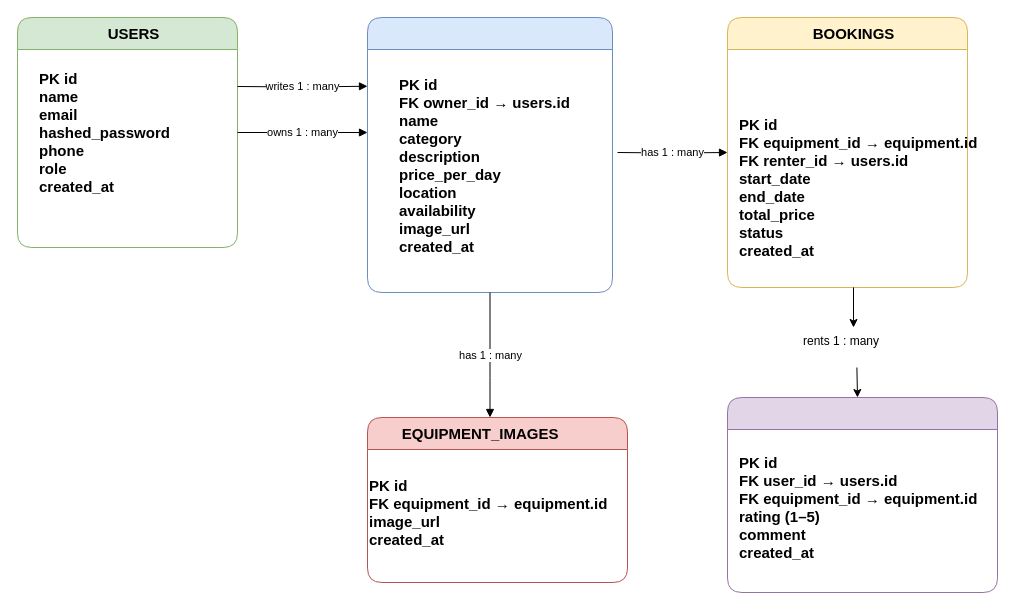
This 1015x610 diagram has some shape labels left out. Each missing label, with the box of its shape:
EQUIPMENT: (366, 16, 612, 292)
REVIEWS: (726, 396, 998, 592)
